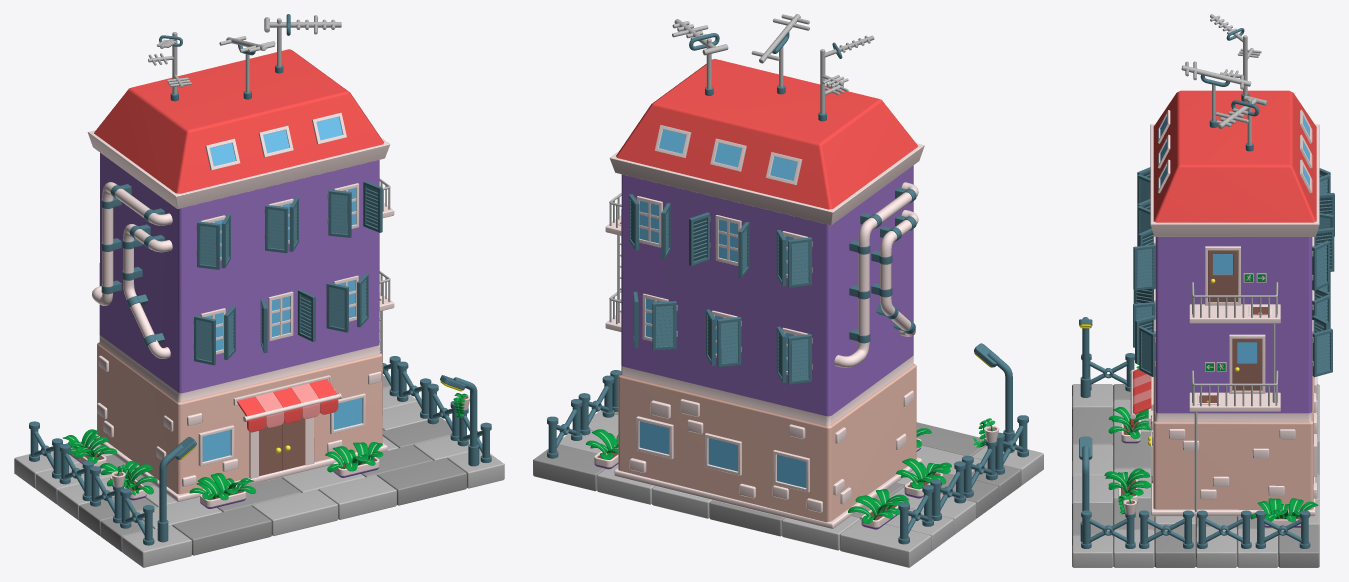
Rendered from City_Island_13.glb.
The picture shows the model from 3 angles, left to right: view 1: azimuth 30°, elevation 25°; view 2: azimuth 150°, elevation 25°; view 3: azimuth 270°, elevation 25°; orthographic projection. The views are drawn at different scales.
Visible parts, largest first — view 1: City_13_House_1, City_13_Base_1, City_13_Pipe_2, City_13_Pipe_1, City_13_Plant_2, City_13_Plant_1, City_13_Street_Lamp_1, City_13_Plant_4, City_13_Street_Lamp_2, City_13_Plant_3, City_13_Fence_7, City_13_Antenna_2 (+8 smaller); view 2: City_13_House_1, City_13_Base_1, City_13_Pipe_2, City_13_Pipe_1, City_13_Plant_4, City_13_Antenna_2, City_13_Antenna_3, City_13_Plant_3, City_13_Antenna_1, City_13_Street_Lamp_1, City_13_Fence_5, City_13_Fence_1 (+5 smaller); view 3: City_13_House_1, City_13_Base_1, City_13_Balcony_2, City_13_Balcony_1, City_13_Fence_4, City_13_Fence_1, City_13_Fence_2, City_13_Fence_3, City_13_Plant_5, City_13_Antenna_2, City_13_Plant_2, City_13_Antenna_3 (+6 smaller).
Boxes of the visible parts, x1,y1,x2,y2 form: City_13_House_1: (87,49,390,502); City_13_Base_1: (14,375,504,567); City_13_Pipe_2: (92,182,172,305); City_13_Pipe_1: (122,224,172,358); City_13_Plant_2: (189,473,255,508); City_13_Plant_1: (325,442,383,477); City_13_Street_Lamp_1: (157,437,196,542); City_13_Plant_4: (63,429,117,468); City_13_Street_Lamp_2: (440,375,479,466); City_13_Plant_3: (99,461,157,500); City_13_Fence_7: (120,488,154,545); City_13_Antenna_2: (264,14,341,73); City_13_House_1: (609,59,924,529); City_13_Base_1: (533,410,1043,567); City_13_Pipe_2: (834,182,918,367); City_13_Pipe_1: (871,210,918,336); City_13_Plant_4: (848,489,909,529); City_13_Antenna_2: (672,19,728,95); City_13_Antenna_3: (818,35,874,121); City_13_Plant_3: (896,458,951,498); City_13_Antenna_1: (751,14,809,94); City_13_Street_Lamp_1: (974,343,1014,453); City_13_Fence_5: (898,484,933,544); City_13_Fence_1: (547,399,582,458); City_13_House_1: (1130,90,1334,516); City_13_Base_1: (1072,384,1319,567); City_13_Balcony_2: (1189,334,1280,411); City_13_Balcony_1: (1189,246,1280,323); City_13_Fence_4: (1081,510,1135,548); City_13_Fence_1: (1255,510,1310,548); City_13_Fence_2: (1197,510,1251,548); City_13_Fence_3: (1139,510,1193,548); City_13_Plant_5: (1250,498,1318,527); City_13_Antenna_2: (1215,95,1267,151); City_13_Plant_2: (1108,407,1150,443); City_13_Antenna_3: (1210,14,1261,101).
Size of the model in its own units: 14.12 by 16.68 by 9.27.
Materials: 32 (32 with a texture image).
